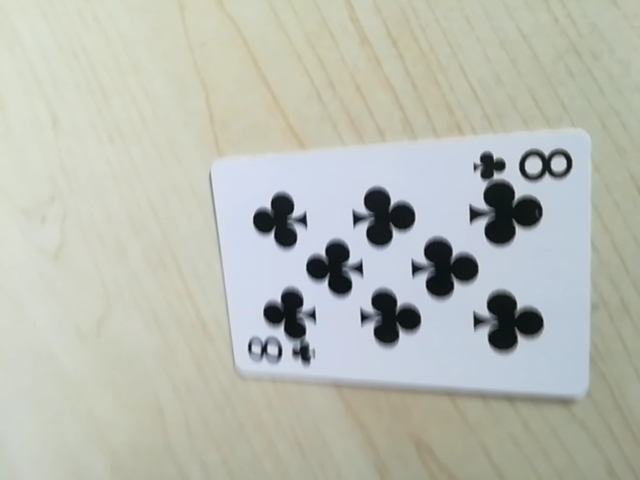mh 8: (473, 142, 577, 185), (244, 332, 313, 369)
